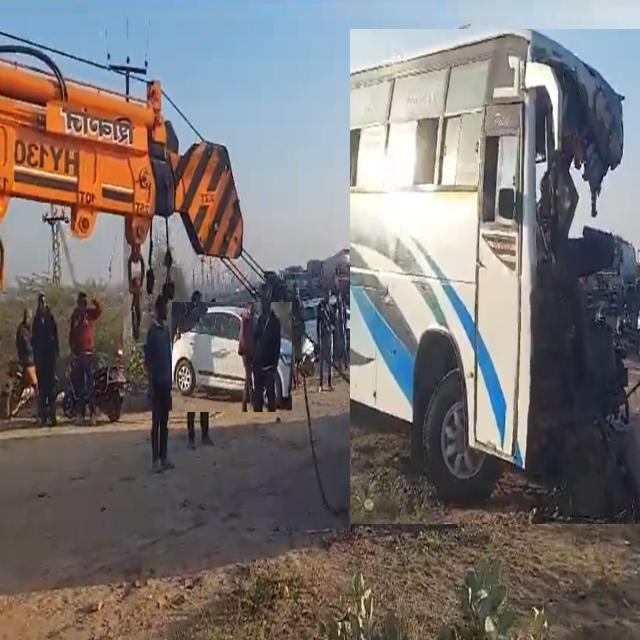accident: (350, 29, 640, 524)
car: (172, 302, 291, 412)
truck: (0, 58, 242, 258)
